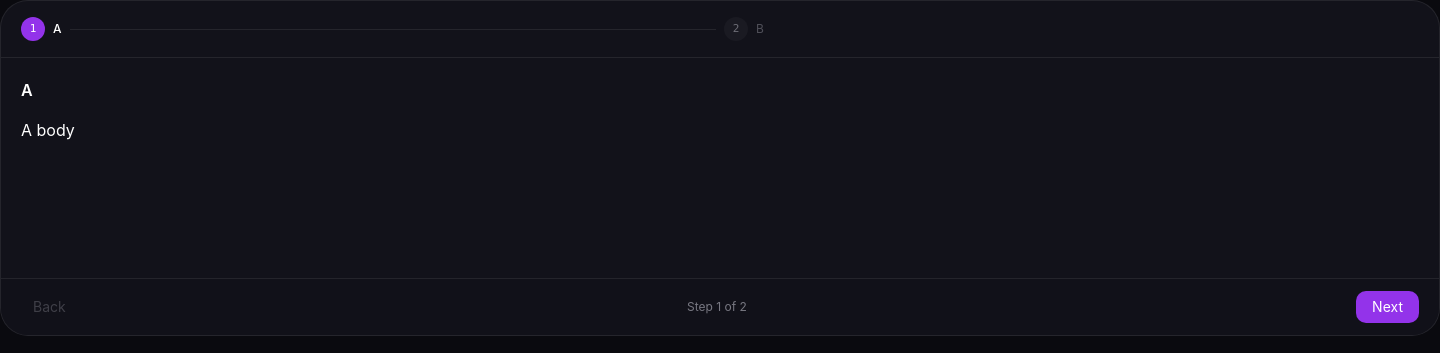
Wizard › shows a custom error when `validate` returns a string
Click the button "Next".
click(1388, 307)  # box [1356, 291, 1419, 323]
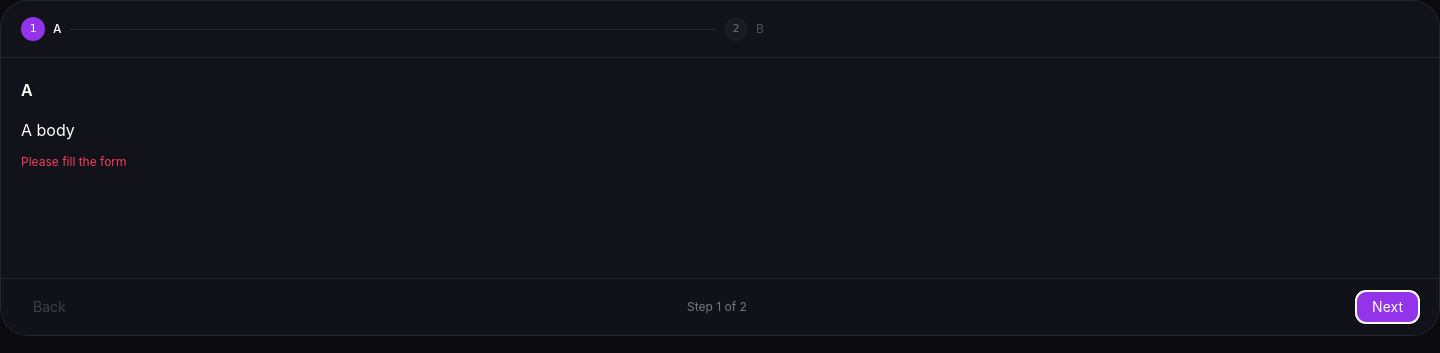
Check: the text "Please fill the form" is shown, box [21, 154, 127, 169]
